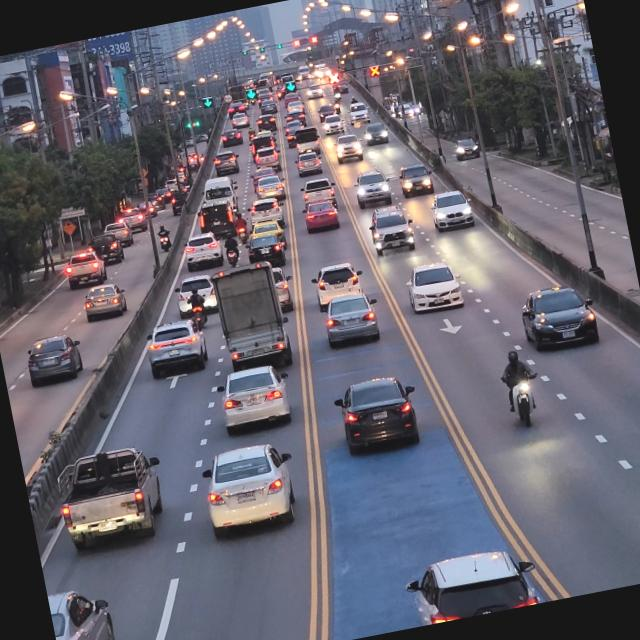Vehicle: (49, 438, 179, 557), (398, 536, 552, 628), (200, 436, 308, 540), (206, 262, 298, 378), (331, 369, 430, 456), (514, 278, 605, 360), (212, 362, 298, 440), (145, 318, 213, 380), (405, 256, 471, 318), (21, 332, 90, 388), (320, 292, 385, 347), (368, 200, 420, 258), (428, 184, 480, 236), (80, 276, 132, 324), (61, 248, 110, 290), (182, 228, 228, 272), (243, 230, 289, 270), (352, 168, 394, 210), (398, 158, 439, 200), (303, 202, 343, 238)
